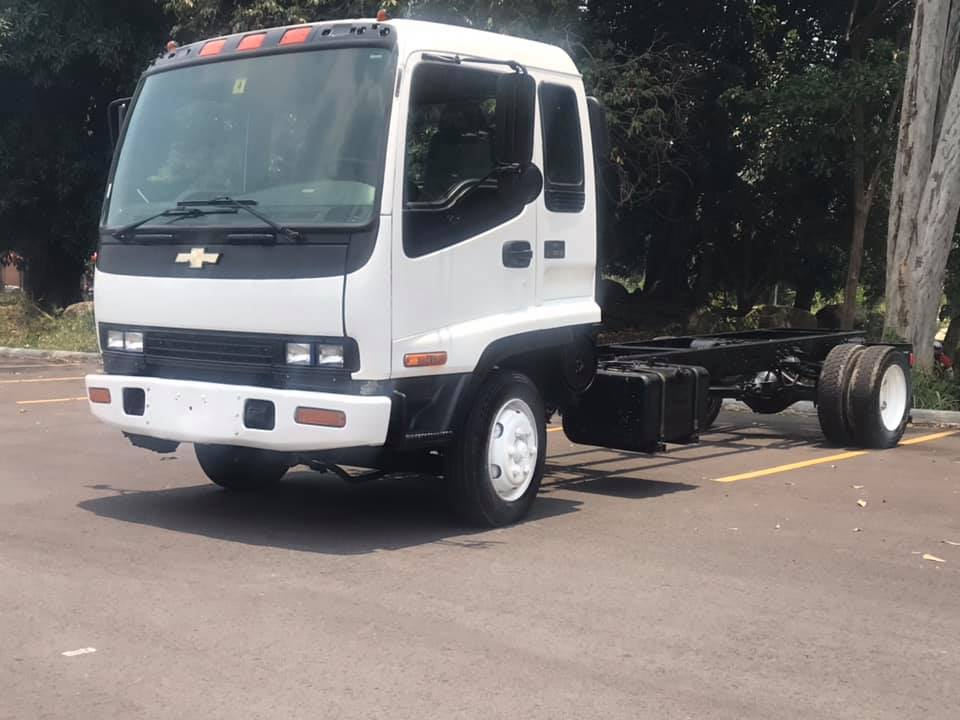camion: (82, 13, 921, 525)
